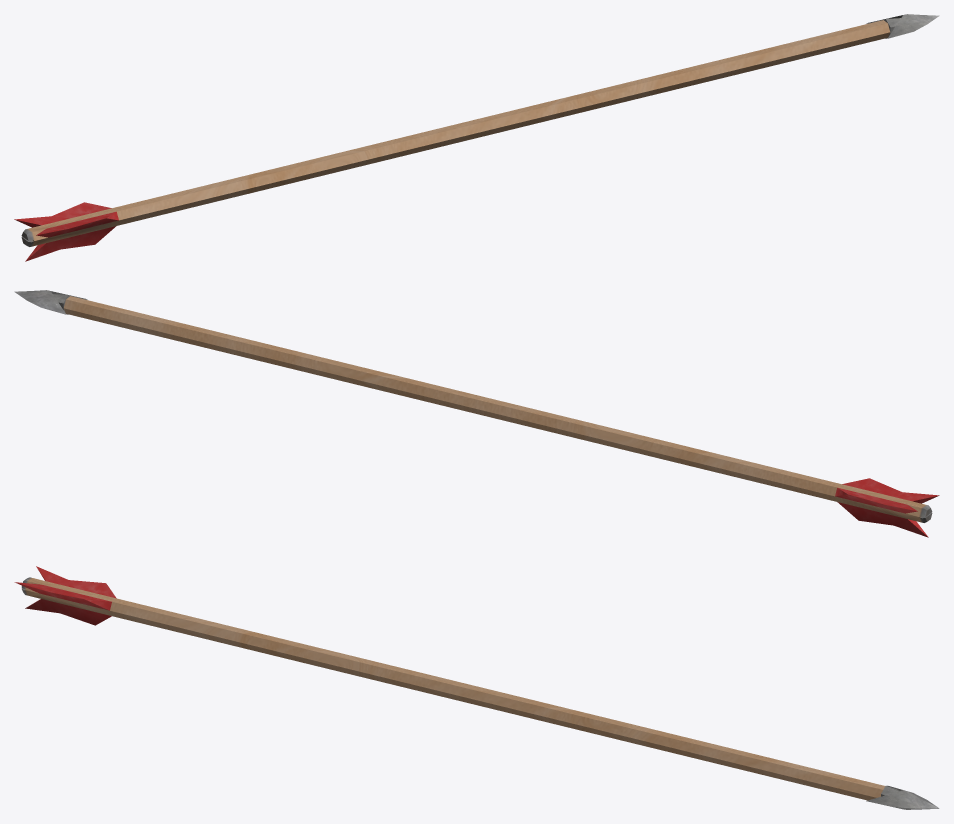
Rendered from 8stud.glb.
3 renders of one model, top to bottom at view 1: azimuth 30°, elevation 25°; view 2: azimuth 150°, elevation 25°; view 3: azimuth 330°, elevation 25°, orthographic.
Parts seen in each view (by area): view 1: Object_3, Object_2; view 2: Object_3, Object_2; view 3: Object_3, Object_2.
Boxes of the visible parts, <box> form: Object_3: <box>14,15,902,261</box>; Object_2: <box>14,14,939,260</box>; Object_3: <box>51,291,939,537</box>; Object_2: <box>14,290,938,536</box>; Object_3: <box>14,566,902,800</box>; Object_2: <box>25,570,939,809</box>.
Bounding box in the file's own units: 150 × 5.38 × 6.2.
Materials: 1 (1 with a texture image).
